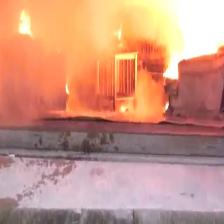smoke: (53, 8, 156, 46)
